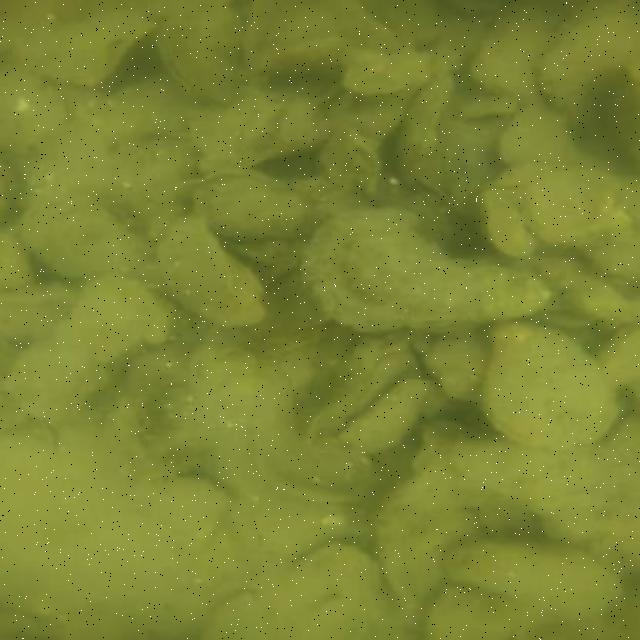Oyster-Closed: (295, 204, 556, 333), (478, 316, 621, 449), (444, 536, 628, 623), (156, 220, 267, 327), (18, 198, 161, 279), (475, 166, 615, 244), (194, 92, 331, 171), (25, 11, 159, 85), (158, 0, 249, 107), (469, 0, 556, 102), (194, 176, 320, 242), (339, 379, 433, 451), (501, 109, 583, 166), (253, 37, 350, 78), (540, 12, 580, 110), (484, 194, 539, 257)
